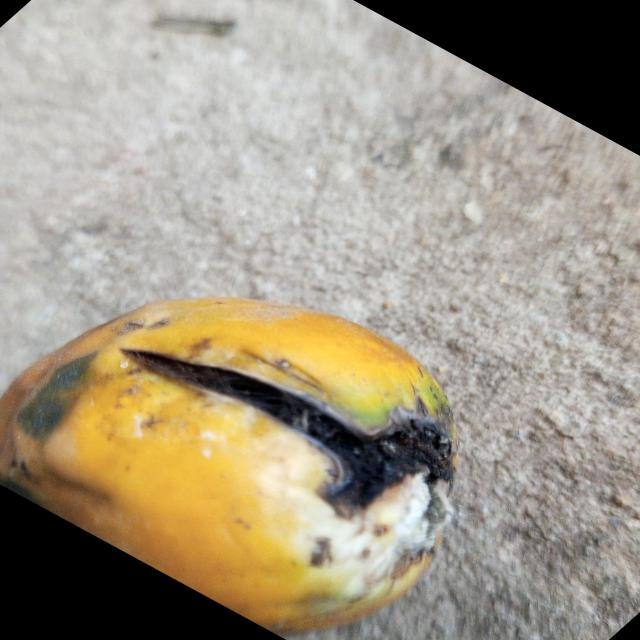damaged: (0, 297, 455, 640)
